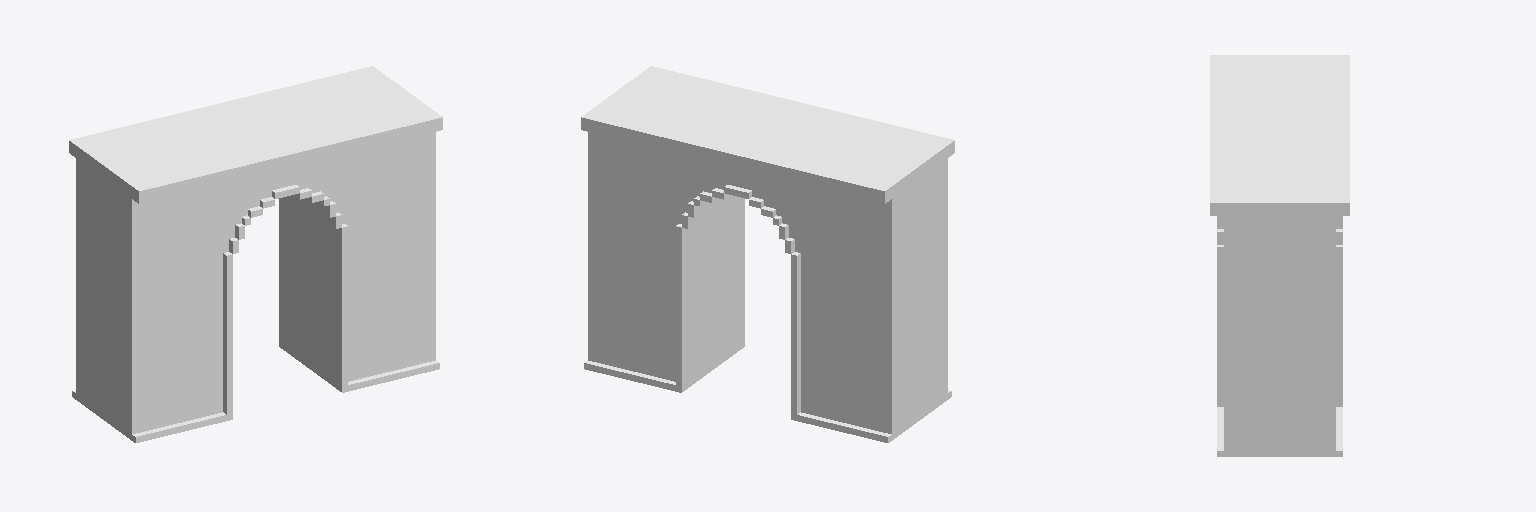
File: bridgeblock_50_40_20.obj
3 views of the same model, side by side, from view 1: azimuth 30°, elevation 25°; view 2: azimuth 150°, elevation 25°; view 3: azimuth 270°, elevation 25° (orthographic).
Parts seen in each view (by area): view 1: object 1; view 2: object 1; view 3: object 1.
Part boxes in pixels (bbox=[...]): object 1: bbox=[69, 66, 442, 442]; object 1: bbox=[581, 66, 954, 442]; object 1: bbox=[1210, 55, 1349, 456].
Bounding box in the file's own units: 5 × 4 × 2.